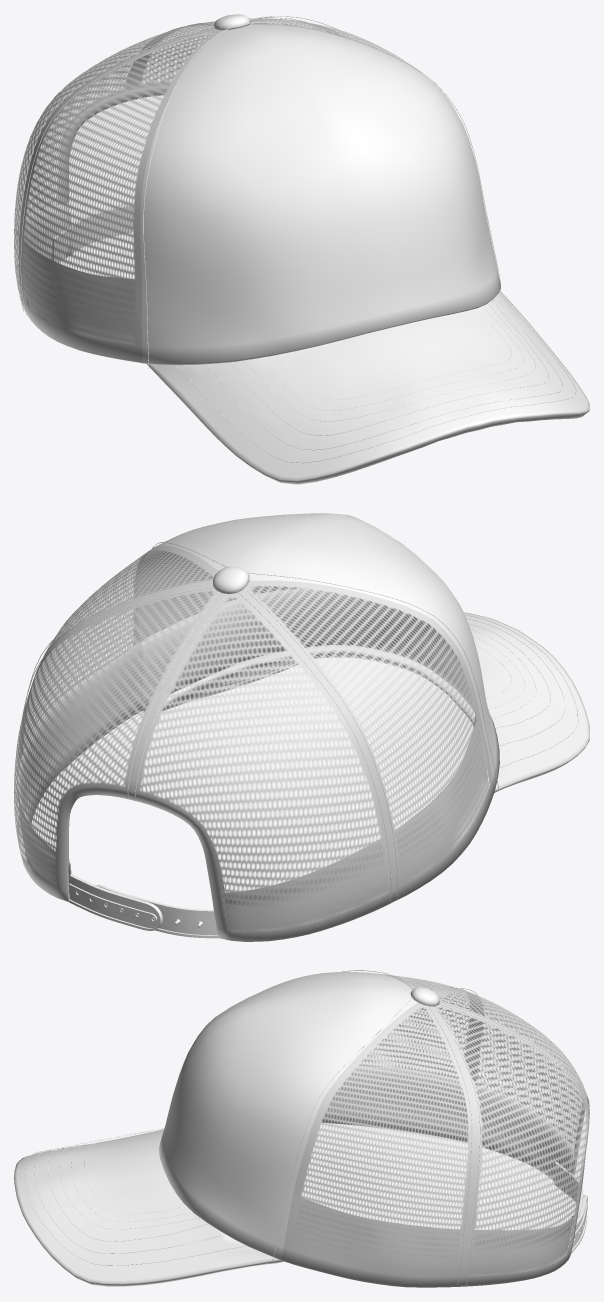
File: gorra_abierta.glb
The picture shows the model from 3 angles, top to bottom: view 1: azimuth 30°, elevation 25°; view 2: azimuth 150°, elevation 25°; view 3: azimuth 270°, elevation 25°; orthographic projection. The views are drawn at different scales.
Parts seen in each view (by area): view 1: crown_front_outside, visor_up, crown_right, crown_back_right, sweatband, visor_stitch_up, snapback, crown_back_left, visor_under, crown_left, crown_stitch_front; view 2: crown_back_right, crown_right, crown_back_left, crown_front_outside, crown_front_inside, crown_left, sweatband, visor_up, snapback, visor_under, visor_stitch_up, squatchee (+1 smaller); view 3: crown_front_outside, crown_left, crown_back_left, visor_up, crown_back_right, sweatband, crown_right, visor_stitch_up, snapback, visor_under, squatchee, crown_stitch_front.
Boxes of the visible parts, x1,y1,x2,y2 form: crown_front_outside: [140, 25, 500, 365]; visor_up: [147, 291, 589, 482]; crown_right: [21, 29, 223, 363]; crown_back_right: [14, 23, 214, 311]; sweatband: [17, 86, 168, 344]; visor_stitch_up: [175, 292, 576, 463]; snapback: [52, 201, 134, 262]; crown_back_left: [132, 18, 336, 90]; visor_under: [153, 371, 588, 484]; crown_left: [249, 19, 424, 75]; crown_stitch_front: [143, 22, 500, 368]; crown_back_right: [132, 591, 393, 941]; crown_right: [241, 580, 494, 901]; crown_back_left: [14, 585, 222, 901]; crown_front_outside: [145, 513, 499, 790]; crown_front_inside: [137, 550, 489, 783]; crown_left: [21, 545, 218, 811]; sweatband: [17, 703, 488, 931]; visor_up: [442, 612, 589, 791]; snapback: [68, 874, 218, 938]; visor_under: [162, 645, 566, 792]; visor_stitch_up: [465, 614, 578, 767]; squatchee: [212, 566, 249, 593]; crown_front_outside: [158, 972, 417, 1260]; crown_left: [281, 1002, 475, 1287]; crown_back_left: [431, 1003, 589, 1286]; visor_up: [14, 1129, 280, 1284]; crown_back_right: [436, 989, 589, 1193]; sweatband: [291, 1068, 586, 1276]; crown_right: [322, 973, 475, 1140]; visor_stitch_up: [25, 1128, 246, 1265]; snapback: [554, 1162, 587, 1254]; visor_under: [35, 1236, 283, 1286]; squatchee: [410, 987, 439, 1006]; crown_stitch_front: [272, 970, 412, 1260].
Bounding box in the file's own units: 0.1498 × 0.1033 × 0.2274.
Materials: 3 (1 with a texture image).
